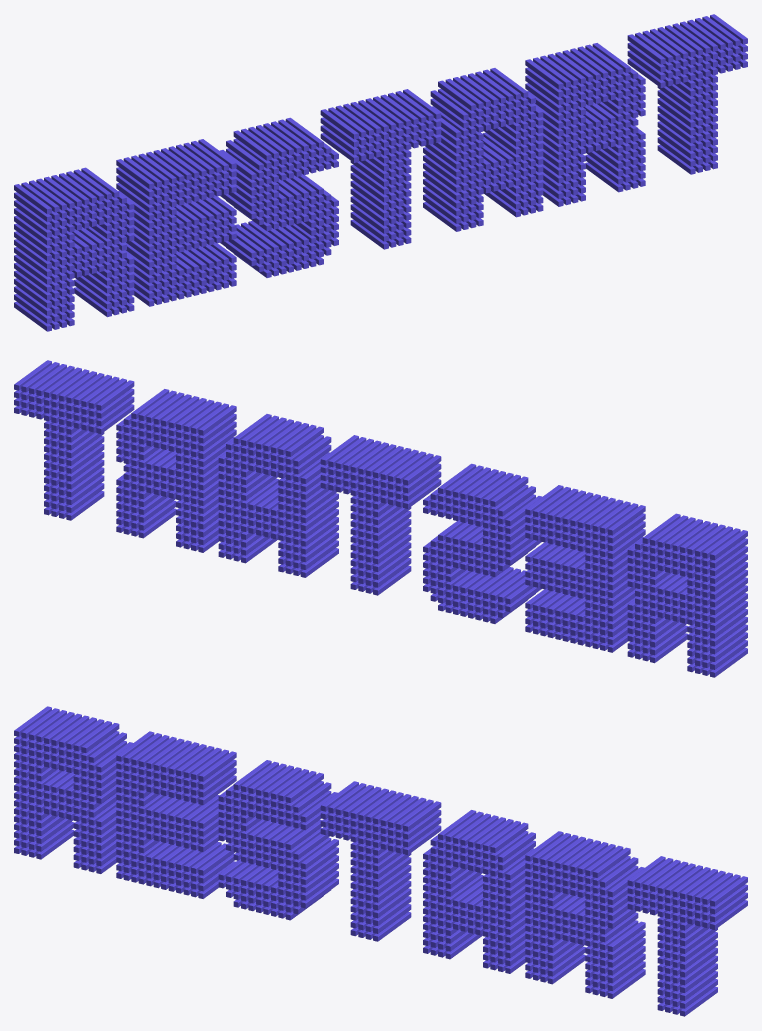
The model's file is RESTART.fbx.
3 views of the same model, one above another, from view 1: azimuth 30°, elevation 25°; view 2: azimuth 150°, elevation 25°; view 3: azimuth 330°, elevation 25° (orthographic).
Visible parts, largest first — view 1: R, E, A, R_2, S, T, T_2; view 2: R, E, A, R_2, S, T, T_2; view 3: E, R_2, R, S, A, T, T_2.
Boxes of the visible parts, <box> form: R: <box>14,167,134,331</box>; E: <box>116,139,236,306</box>; A: <box>423,68,543,231</box>; R_2: <box>525,43,645,206</box>; S: <box>219,117,338,277</box>; T: <box>320,89,441,249</box>; T_2: <box>627,14,747,174</box>; R: <box>627,513,747,677</box>; E: <box>525,485,645,652</box>; A: <box>218,414,338,577</box>; R_2: <box>116,389,236,552</box>; S: <box>423,463,542,623</box>; T: <box>320,435,441,595</box>; T_2: <box>14,360,134,520</box>; E: <box>116,731,236,898</box>; R_2: <box>525,831,645,998</box>; R: <box>14,706,132,873</box>; S: <box>218,760,338,920</box>; A: <box>423,810,535,973</box>; T: <box>320,781,441,941</box>; T_2: <box>627,856,747,1016</box>.
Bounding box in the file's own units: 1099 × 184 × 90.
